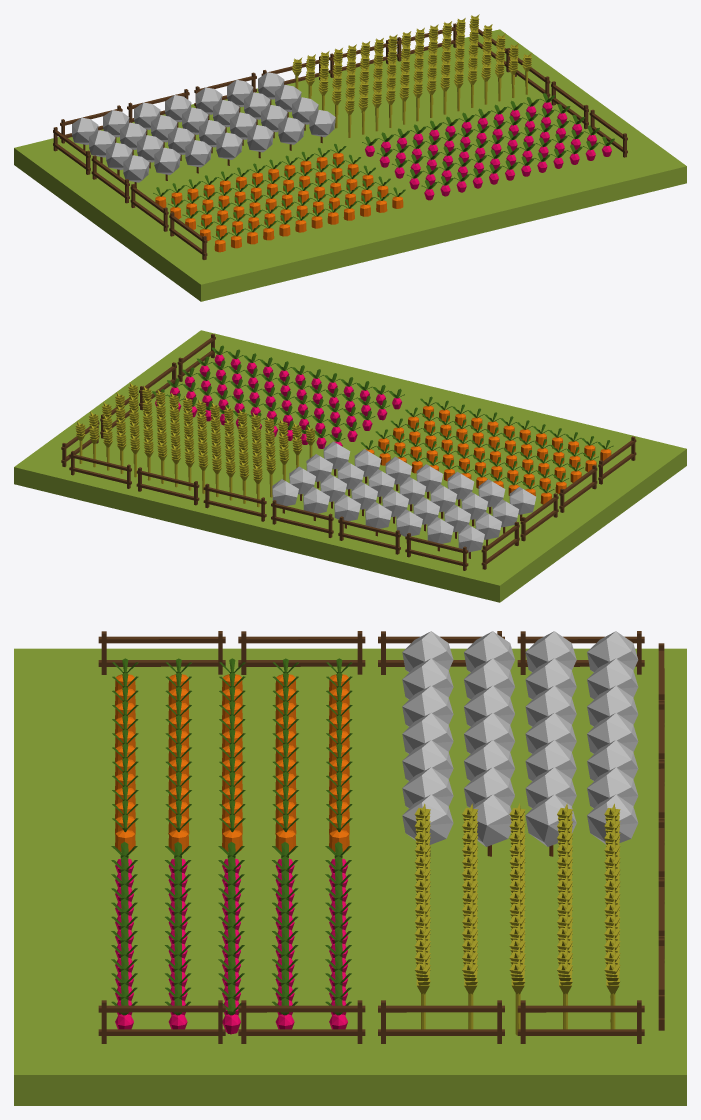
File: Crops.fbx
3 views of the same model, one above another, from view 1: azimuth 30°, elevation 25°; view 2: azimuth 150°, elevation 25°; view 3: azimuth 270°, elevation 25° (orthographic). The views are drawn at different scales.
Visible parts, largest first — view 1: base.007, cooton, Wheat, Carrot, radish, fance.002; view 2: base.007, cooton, Wheat, Carrot, radish, fance.002; view 3: base.007, cooton, Carrot, fance.002, radish, Wheat.
Boxes of the visible parts, x1,y1,x2,y2 form: base.007: (14, 29, 686, 301); cooton: (72, 72, 335, 188); Wheat: (292, 14, 531, 137); Carrot: (153, 144, 405, 252); radish: (362, 93, 614, 200); fance.002: (53, 23, 627, 259); base.007: (14, 330, 686, 602); cooton: (272, 441, 536, 558); Wheat: (75, 382, 315, 507); Carrot: (361, 396, 613, 504); radish: (152, 345, 404, 448); fance.002: (61, 334, 636, 570); base.007: (14, 648, 686, 1105); cooton: (402, 631, 638, 856); Carrot: (112, 658, 352, 852); fance.002: (98, 631, 664, 1043); radish: (111, 842, 351, 1034); Wheat: (414, 803, 620, 1035).
Size of the model in its own units: 836 by 95.57 by 558.
